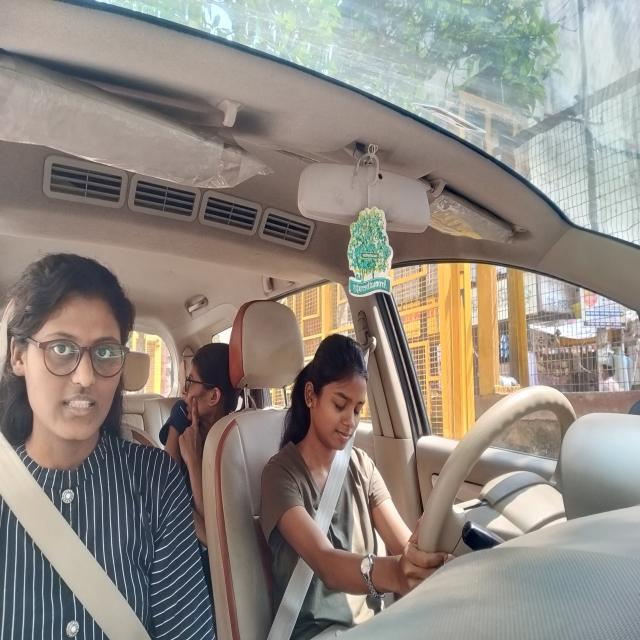drowsy: (304, 328, 370, 462)
person: (13, 256, 131, 444), (184, 340, 234, 424)
